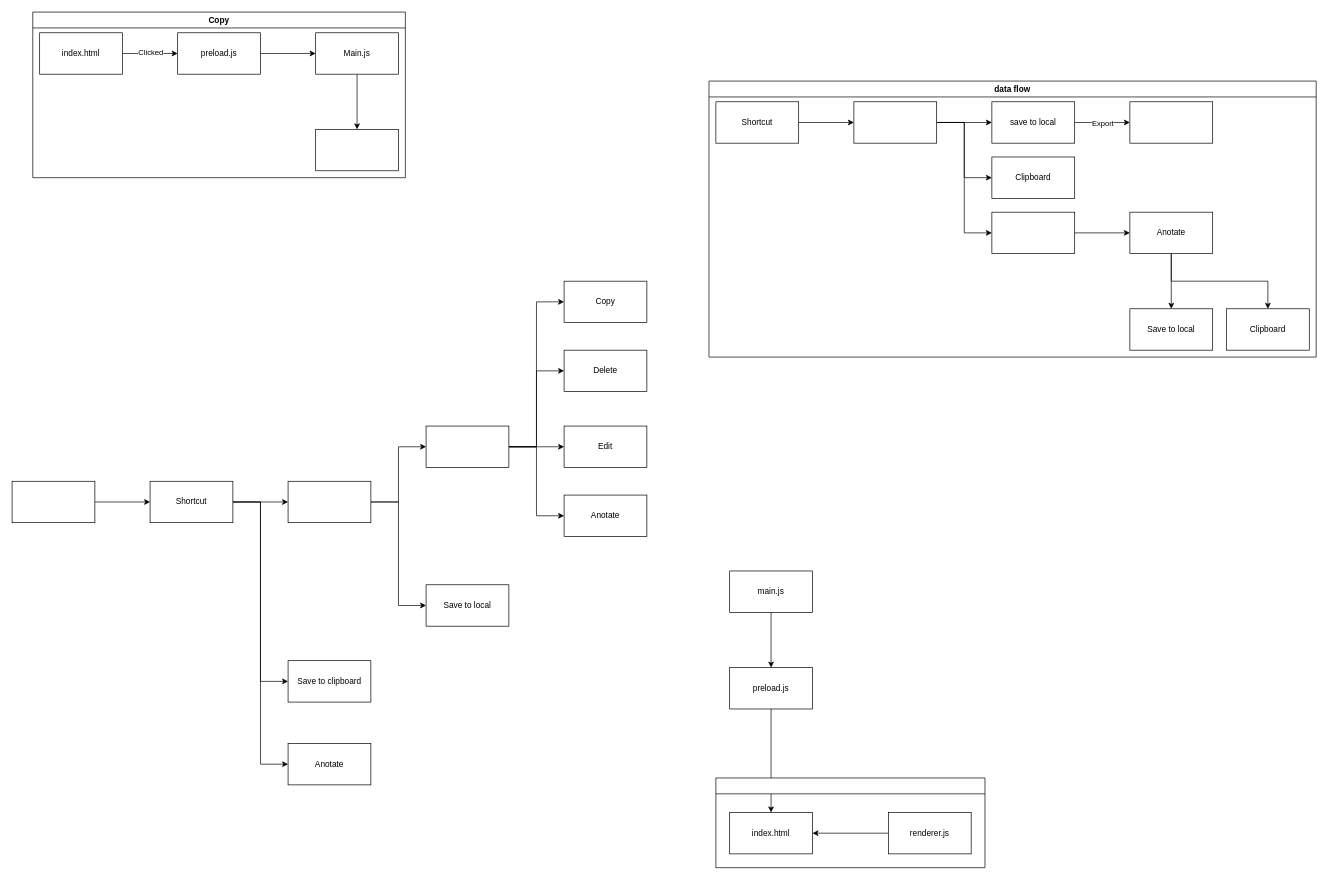
Some shapes in this 1328 by 880 pixel diagram are drawn without their labels. Each missing label, with the centre of its shape:
"App" belongs at [1033,232].
"Capture" belongs at [329,502].
"Copy to clipboard" belongs at [356,150].
"Get image" belongs at [895,122].
"Show in view" belongs at [467,446].
"Start" belongs at [53,502].
"Web standard" belongs at [850,822].
"Word" belongs at [1171,122].
